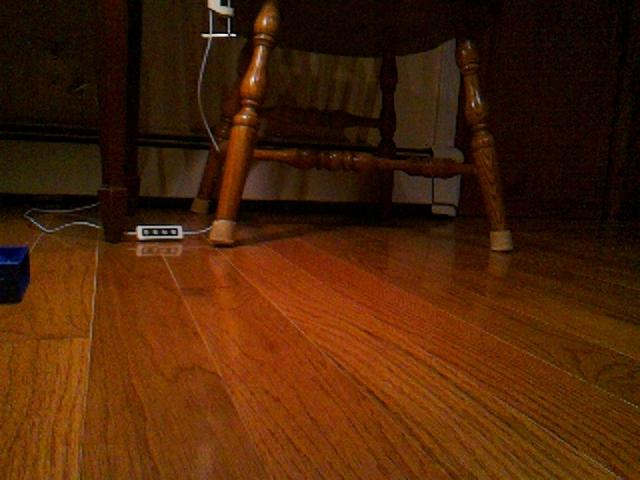blue: (1, 243, 32, 306)
